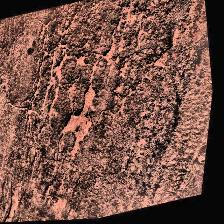pothole: (55, 82, 111, 158)
